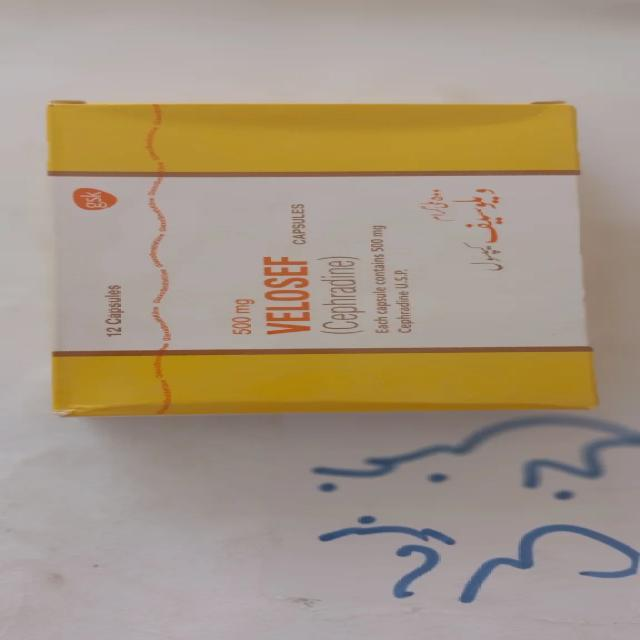drug-name: (260, 250, 314, 336)
